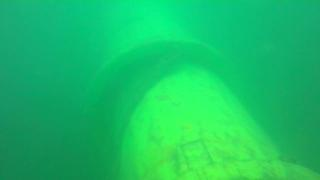pipe: (77, 1, 320, 180)
